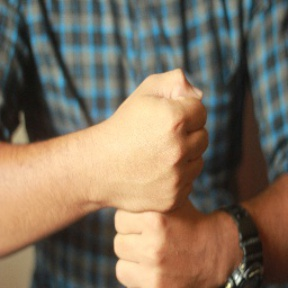G: (94, 67, 217, 288)
